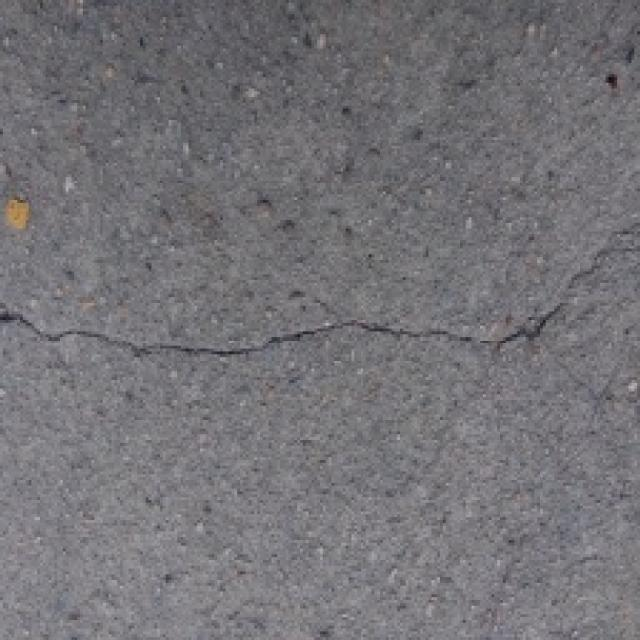crack: (0, 194, 640, 396)
